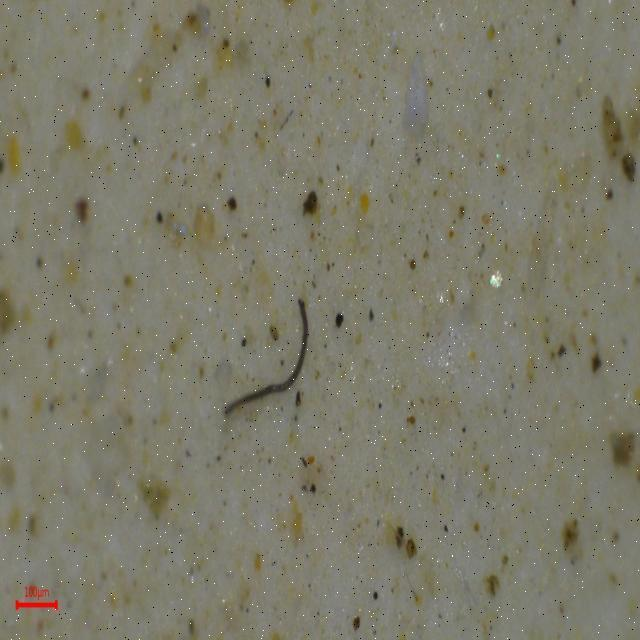Fibre: (220, 294, 308, 426)
